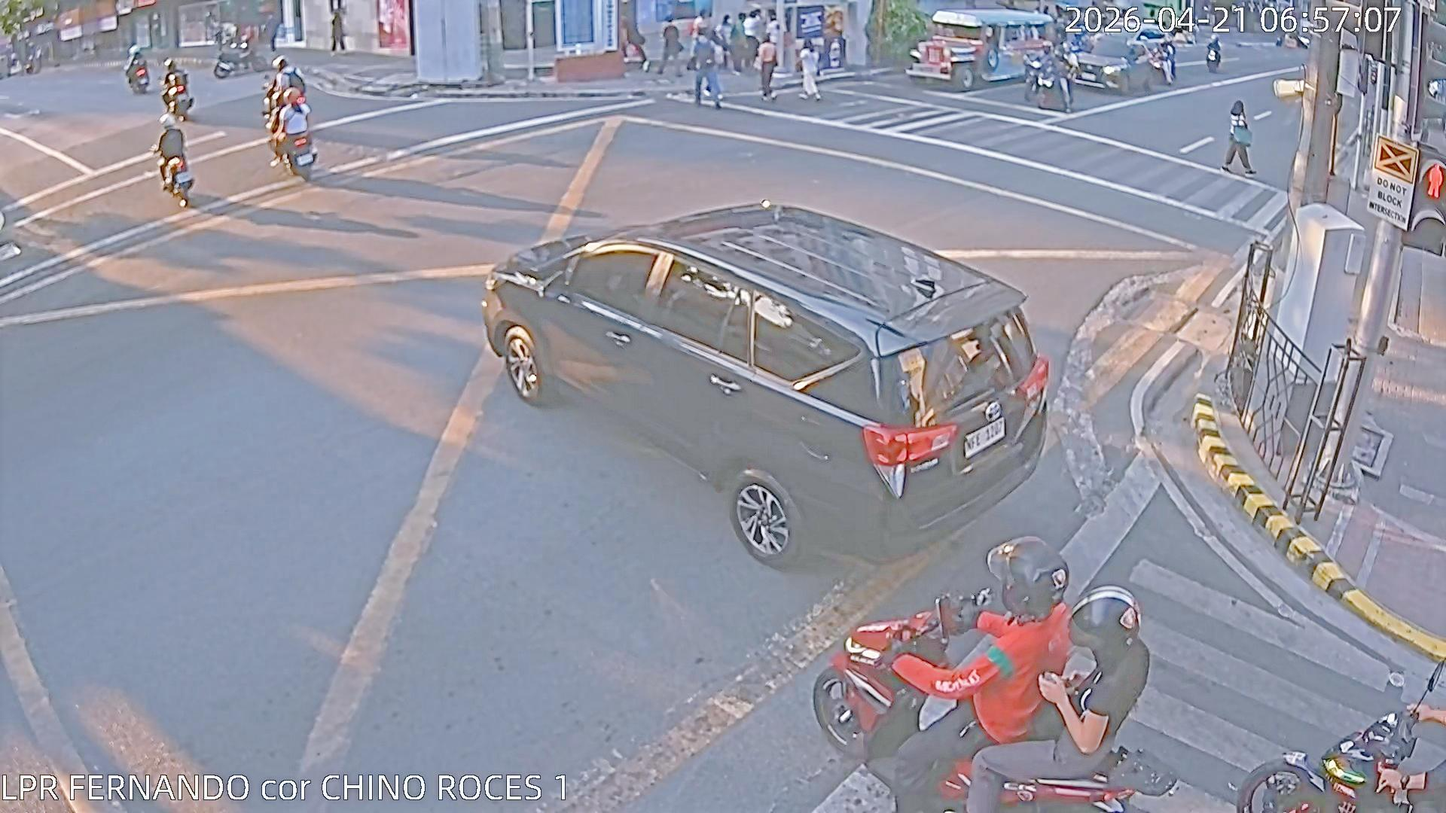Car: (471, 187, 1115, 551), (1074, 30, 1157, 117)
Motor: (725, 566, 1293, 805), (1219, 631, 1446, 813), (255, 88, 346, 186), (142, 133, 218, 223), (249, 53, 315, 121), (1194, 27, 1241, 83), (158, 64, 195, 123), (1041, 61, 1075, 121), (1026, 50, 1059, 104), (119, 46, 154, 93)
